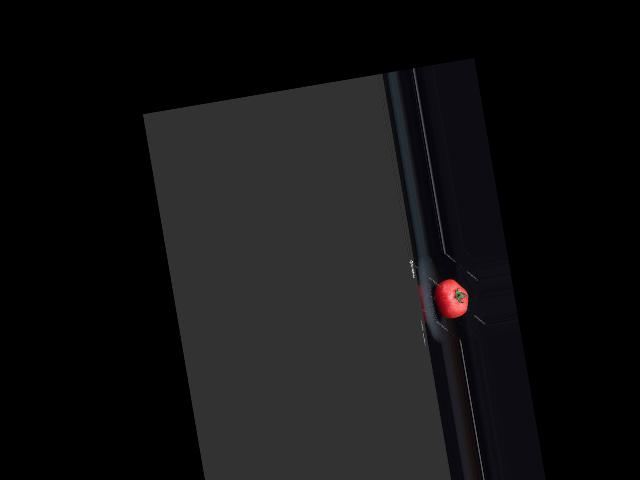tomato: (431, 276, 471, 321)
